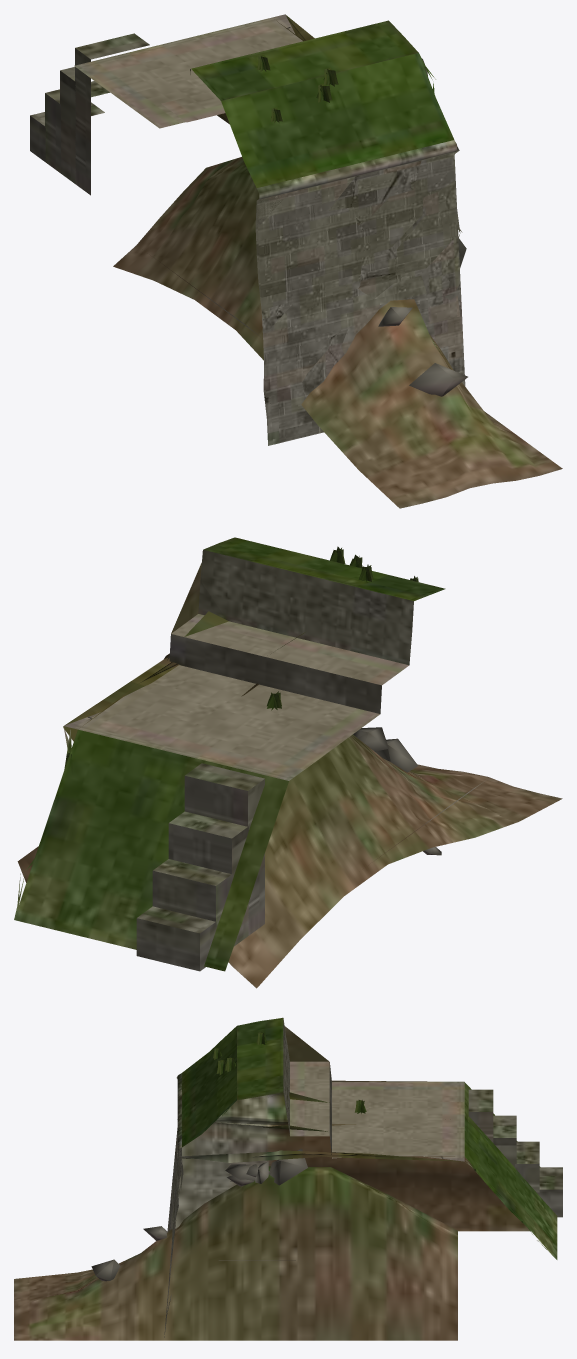
Rendered from starfort_bastion_flank_live.glb.
3 renders of one model, top to bottom at view 1: azimuth 30°, elevation 25°; view 2: azimuth 150°, elevation 25°; view 3: azimuth 270°, elevation 25°, orthographic. The views are drawn at different scales.
Visible parts, largest first — view 1: breached, intact, cracked, stairs; view 2: breached, intact, cracked, stairs, endcap_b; view 3: breached, intact, cracked, stairs, endcap_a.
Boxes of the visible parts, <box> form: breached: <box>96,14,562,508</box>; intact: <box>74,17,465,438</box>; cracked: <box>74,18,460,397</box>; stairs: <box>30,33,149,195</box>; breached: <box>14,537,562,988</box>; intact: <box>35,539,445,971</box>; cracked: <box>14,540,441,970</box>; stairs: <box>136,763,264,971</box>; endcap_b: <box>83,562,201,725</box>; breached: <box>14,1018,554,1340</box>; intact: <box>164,1025,557,1336</box>; cracked: <box>169,1018,557,1277</box>; stairs: <box>468,1089,562,1217</box>; endcap_a: <box>176,1017,426,1081</box>.
Size of what is drawn, in the model's own units: 4.44 by 6.41 by 12.43.
2 materials, 2 textured.
